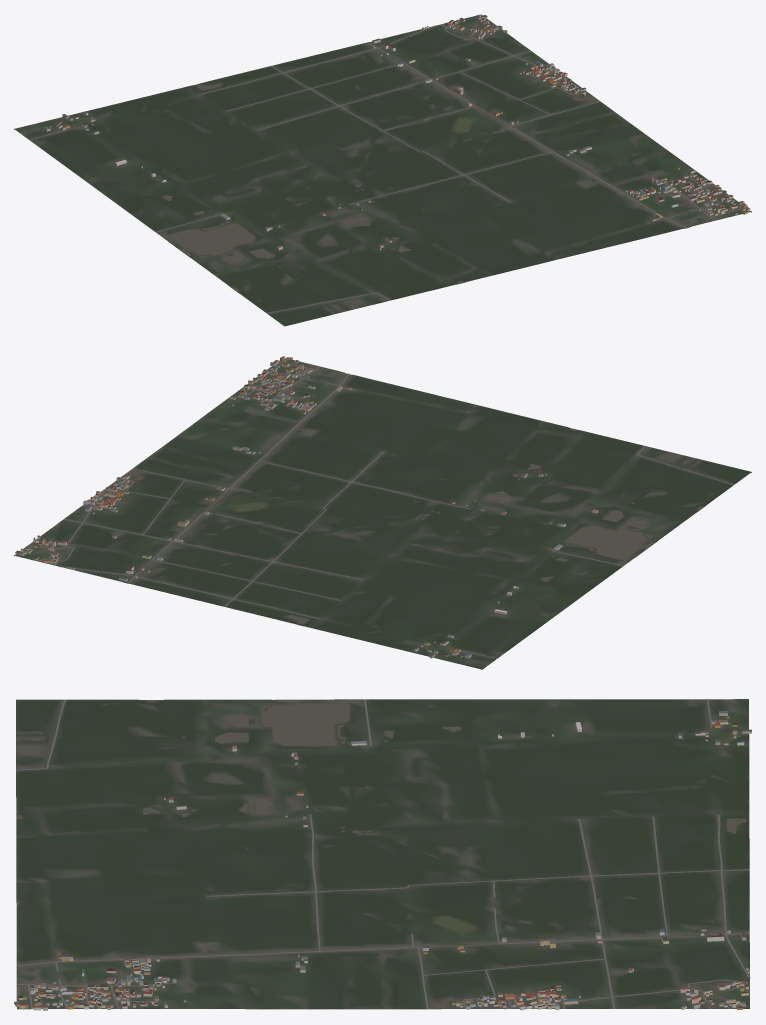
The picture shows the model from 3 angles, top to bottom: view 1: azimuth 30°, elevation 25°; view 2: azimuth 150°, elevation 25°; view 3: azimuth 270°, elevation 25°; orthographic projection. The views are drawn at different scales.
Parts seen in each view (by area): view 1: ground, buildings, water, roads; view 2: ground, buildings, water, roads; view 3: ground, buildings, water, roads.
Part boxes in pixels (box(x1,y1,x2,y2)): ground: box(14, 14, 751, 326); buildings: box(43, 14, 750, 249); water: box(162, 42, 687, 291); roads: box(29, 19, 744, 313); ground: box(14, 358, 751, 669); buildings: box(15, 356, 597, 658); water: box(126, 373, 703, 624); roads: box(22, 361, 733, 658); ground: box(16, 699, 749, 1009); buildings: box(14, 710, 751, 1010); water: box(16, 699, 749, 967); roads: box(16, 699, 750, 1009).
Bounding box in the file's own units: 1411 × 16.38 × 1411.
